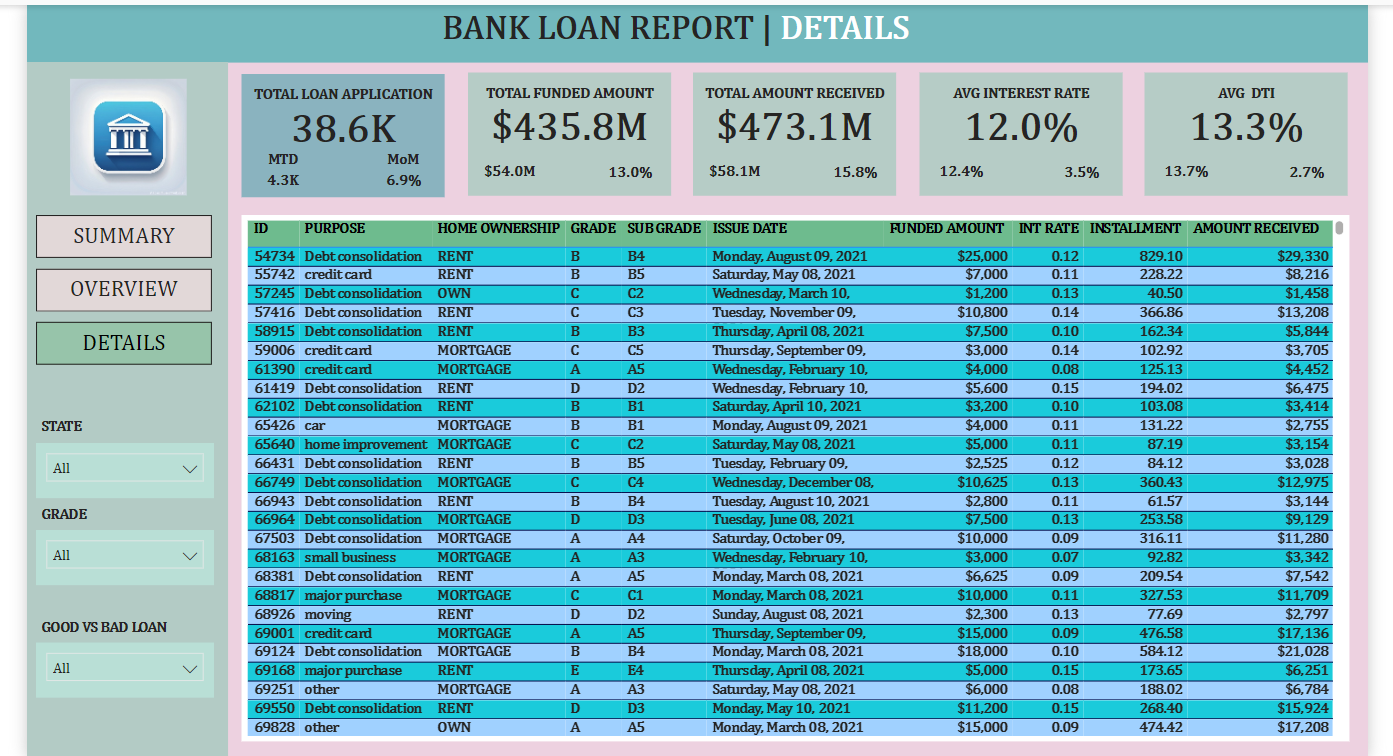

What the dashboard file says about the page in this screenshot:
{"tool":"powerbi","page":{"name":"DETAILS","canvas":[1280,720],"ordinal":2},"visuals":[{"type":"shape","box":[204.6,200.5,1057.2,502.3],"z":0},{"type":"shape","box":[0,0,1280.6,55],"z":1000},{"type":"shape","box":[0,54.3,192,665.3],"z":2000},{"type":"textbox","box":[391.3,0,496.3,47.7],"z":3000},{"type":"shape","box":[420.4,64.8,194.1,117.7],"z":3000,"group":"g2"},{"type":"shape","box":[636.1,64.8,194.1,117.7],"z":3000,"group":"g3"},{"type":"shape","box":[851.7,64.8,194.1,117.7],"z":3000,"group":"g4"},{"type":"shape","box":[1067.3,64.8,194.1,117.7],"z":3000,"group":"g5"},{"type":"shape","box":[205.2,65.2,194.1,117.7],"z":3000,"group":"g1"},{"type":"group","id":"g1","title":"Group 1","box":[205.2,65.2,194.1,119.5],"z":4000},{"type":"card","fields":{"Values":["Bank_loan_data.TOTAL LOAN AMOUNT"]},"box":[420.4,87.1,194.1,52.5],"z":4000,"group":"g2"},{"type":"card","fields":{"Values":["Bank_loan_data.Total Amount received"]},"box":[636.1,87.1,194.1,52.5],"z":4000,"group":"g3"},{"type":"card","fields":{"Values":["Bank_loan_data.Avg Interest Rate"]},"box":[851.7,87.1,194.1,52.5],"z":4000,"group":"g4"},{"type":"card","fields":{"Values":["Bank_loan_data.AVG DTI"]},"box":[1067.3,87.1,194.1,52.5],"z":4000,"group":"g5"},{"type":"card","fields":{"Values":["Bank_loan_data.Total loan Application"]},"box":[205.2,87.5,194.1,52.5],"z":4000,"group":"g1"},{"type":"group","id":"g2","title":"Group 1","box":[420.4,64.8,194.4,119.5],"z":5000},{"type":"textbox","box":[420.4,69.6,194.1,36.6],"z":5000,"group":"g2"},{"type":"textbox","box":[636.1,69.6,194.1,36.6],"z":5000,"group":"g3"},{"type":"textbox","box":[851.7,69.6,194.1,36.6],"z":5000,"group":"g4"},{"type":"textbox","box":[1067.3,69.6,194.1,36.6],"z":5000,"group":"g5"},{"type":"textbox","box":[205.2,70,194.1,36.6],"z":5000,"group":"g1"},{"type":"group","id":"g3","title":"Group 1","box":[636.1,64.8,194.4,119.5],"z":6000},{"type":"card","title":"MTD","fields":{"Values":["Bank_loan_data.MTD Funded Amount"]},"box":[420.4,139.6,77.9,42.9],"z":6000,"group":"g2"},{"type":"card","title":"MTD","fields":{"Values":["Bank_loan_data.MTD Total Amount Received"]},"box":[636.1,139.6,77.9,42.9],"z":6000,"group":"g3"},{"type":"card","title":"MTD","fields":{"Values":["Bank_loan_data.MTD Avg Interest Rate"]},"box":[851.7,139.6,77.9,42.9],"z":6000,"group":"g4"},{"type":"card","title":"MTD","fields":{"Values":["Bank_loan_data.MTD Avg DTI"]},"box":[1067.3,139.6,77.9,42.9],"z":6000,"group":"g5"},{"type":"card","title":"MTD","fields":{"Values":["Bank_loan_data.MTD Loan Application"]},"box":[205.2,140,77.9,42.9],"z":6000,"group":"g1"},{"type":"group","id":"g4","title":"Group 1","box":[851.7,64.8,194.4,119.5],"z":7000},{"type":"card","title":"MoM","fields":{"Values":["Bank_loan_data.MoM Total Funded Amount"]},"box":[535.1,139.8,79,44.6],"z":7000,"group":"g2"},{"type":"card","title":"MoM","fields":{"Values":["Bank_loan_data.MoM Total Amount Received"]},"box":[750.8,139.8,79,44.6],"z":7000,"group":"g3"},{"type":"card","title":"MoM","fields":{"Values":["Bank_loan_data.MoM Avg Interest rate"]},"box":[966.4,139.8,79,44.6],"z":7000,"group":"g4"},{"type":"card","title":"MoM","fields":{"Values":["Bank_loan_data.MoM Avg DTI"]},"box":[1182,139.8,79,44.6],"z":7000,"group":"g5"},{"type":"card","title":"MoM","fields":{"Values":["Bank_loan_data.MoM LOAN APPLICATION"]},"box":[319.9,140.2,79,44.6],"z":7000,"group":"g1"},{"type":"group","id":"g5","title":"Group 1","box":[1067.3,64.8,194.4,119.5],"z":8000},{"type":"slicer","fields":{"Values":["Bank_loan_data.address_state"]},"box":[8.1,418.6,170.2,52.5],"z":9000,"group":"g8"},{"type":"textbox","box":[8.1,386.8,138.4,30.2],"z":10000,"group":"g8"},{"type":"slicer","fields":{"Values":["Bank_loan_data.grade"]},"box":[8.1,502.1,170.2,52.5],"z":11000,"group":"g7"},{"type":"textbox","box":[8.1,471.9,138.4,30.2],"z":12000,"group":"g7"},{"type":"slicer","fields":{"Values":["Bank_loan_data.Good VS Bad Loan"]},"box":[8.1,609.9,170.2,52.5],"z":13000,"group":"g6"},{"type":"textbox","box":[8.7,579.2,170.1,30.4],"z":14000,"group":"g6"},{"type":"tableEx","fields":{"Values":["Bank_loan_data.id","Bank_loan_data.purpose","Bank_loan_data.home_ownership","Bank_loan_data.grade","Bank_loan_data.sub_grade","Bank_loan_data.issue_date","Bank_loan_data.TOTAL Funded AMOUNT","Sum(Bank_loan_data.int_rate)","Sum(Bank_loan_data.installment)","Bank_loan_data.Total Amount received"]},"box":[205.2,200.4,1057.8,502.6],"z":16000},{"type":"image","box":[36.5,64.8,121.5,123.5],"z":16001},{"type":"group","id":"g6","title":"Group 3","box":[8.1,579.2,170.1,83],"z":16002},{"type":"group","id":"g7","title":"Group 4","box":[8.1,471.9,170.1,83],"z":16003},{"type":"group","id":"g8","title":"Group 5","box":[8.1,386.8,170.1,83],"z":16004},{"type":"pageNavigator","box":[8.1,200.5,168.1,145.8],"z":16005}]}

Visuals, with their boxes on the page's 1280x720 design canvas (x1, y1, x2, y2). These are canvas units, not pixel positions in the 1393x756 screenshot, which may show the page scaled, cropped or inside an application window:
shape: detection(205, 200, 1262, 703)
shape: detection(0, 0, 1281, 55)
shape: detection(0, 54, 192, 720)
textbox: detection(391, 0, 888, 48)
shape: detection(420, 65, 614, 182)
shape: detection(636, 65, 830, 182)
shape: detection(852, 65, 1046, 182)
shape: detection(1067, 65, 1261, 182)
shape: detection(205, 65, 399, 183)
"Group 1" group: detection(205, 65, 399, 185)
card - Bank_loan_data.TOTAL LOAN AMOUNT: detection(420, 87, 614, 140)
card - Bank_loan_data.Total Amount received: detection(636, 87, 830, 140)
card - Bank_loan_data.Avg Interest Rate: detection(852, 87, 1046, 140)
card - Bank_loan_data.AVG DTI: detection(1067, 87, 1261, 140)
card - Bank_loan_data.Total loan Application: detection(205, 88, 399, 140)
"Group 1" group: detection(420, 65, 615, 184)
textbox: detection(420, 70, 614, 106)
textbox: detection(636, 70, 830, 106)
textbox: detection(852, 70, 1046, 106)
textbox: detection(1067, 70, 1261, 106)
textbox: detection(205, 70, 399, 107)
"Group 1" group: detection(636, 65, 830, 184)
"MTD" card: detection(420, 140, 498, 182)
"MTD" card: detection(636, 140, 714, 182)
"MTD" card: detection(852, 140, 930, 182)
"MTD" card: detection(1067, 140, 1145, 182)
"MTD" card: detection(205, 140, 283, 183)
"Group 1" group: detection(852, 65, 1046, 184)
"MoM" card: detection(535, 140, 614, 184)
"MoM" card: detection(751, 140, 830, 184)
"MoM" card: detection(966, 140, 1045, 184)
"MoM" card: detection(1182, 140, 1261, 184)
"MoM" card: detection(320, 140, 399, 185)
"Group 1" group: detection(1067, 65, 1262, 184)
slicer - Bank_loan_data.address_state: detection(8, 419, 178, 471)
textbox: detection(8, 387, 146, 417)
slicer - Bank_loan_data.grade: detection(8, 502, 178, 555)
textbox: detection(8, 472, 146, 502)
slicer - Bank_loan_data.Good VS Bad Loan: detection(8, 610, 178, 662)
textbox: detection(9, 579, 179, 610)
tableEx - Bank_loan_data.id x Bank_loan_data.purpose: detection(205, 200, 1263, 703)
image: detection(36, 65, 158, 188)
"Group 3" group: detection(8, 579, 178, 662)
"Group 4" group: detection(8, 472, 178, 555)
"Group 5" group: detection(8, 387, 178, 470)
pageNavigator: detection(8, 200, 176, 346)
